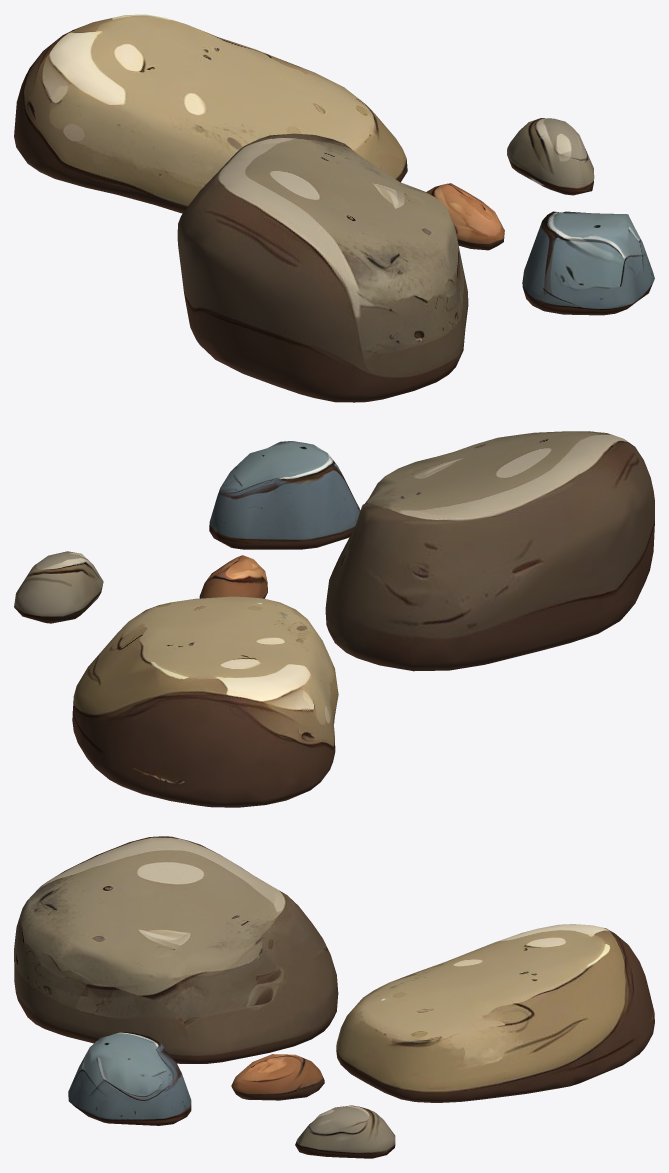
File: cailloux.glb
The picture shows the model from 3 angles, top to bottom: view 1: azimuth 30°, elevation 25°; view 2: azimuth 150°, elevation 25°; view 3: azimuth 270°, elevation 25°; orthographic projection. The views are drawn at different scales.
Visible parts, largest first — view 1: tripo_node_226f5d95-64e8-4a51-8c5b-13ec76ab3317; view 2: tripo_node_226f5d95-64e8-4a51-8c5b-13ec76ab3317; view 3: tripo_node_226f5d95-64e8-4a51-8c5b-13ec76ab3317.
Boxes of the visible parts, x1,y1,x2,y2 form: tripo_node_226f5d95-64e8-4a51-8c5b-13ec76ab3317: (14, 14, 654, 402); tripo_node_226f5d95-64e8-4a51-8c5b-13ec76ab3317: (14, 431, 654, 807); tripo_node_226f5d95-64e8-4a51-8c5b-13ec76ab3317: (14, 836, 654, 1158).
Bounding box in the file's own units: 0.748 × 0.2433 × 1.
Materials: 1 (1 with a texture image).
